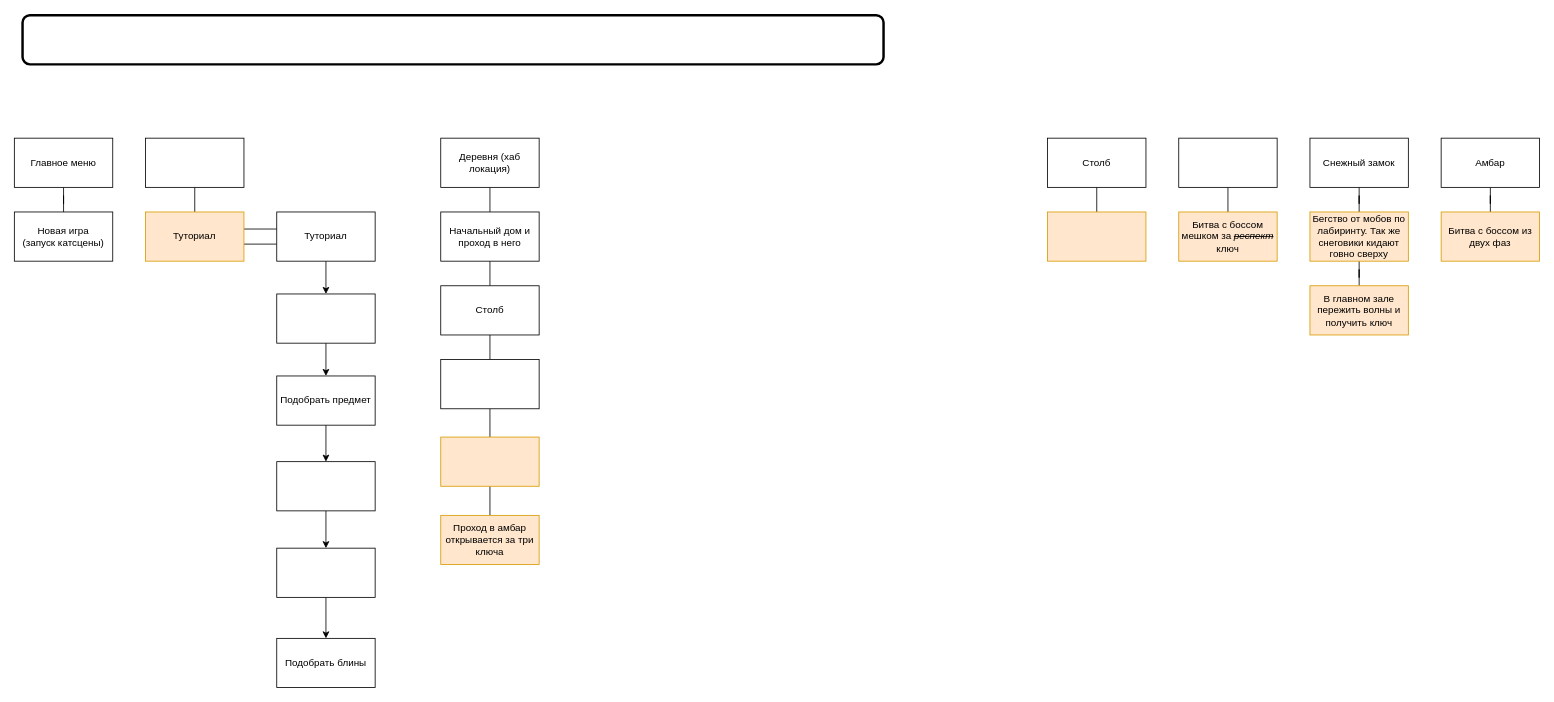
Image size: 1554x702. Some labels were removed from this diagram. The shapes that lost their labels are listed below. From the top down, each one's centre as x and y in pixels, then its label:
At point (452, 39): "BURN OUT ALPHA V 0.1".
At point (194, 162): "Начальный дом".
At point (1227, 162): "Загон".
At point (1096, 236): "Взаимодействие со столбом: с него падает ключ".
At point (325, 318): "Передвежиение".
At point (489, 384): "Проход в загон".
At point (489, 461): "Проход в снежный замок открывается после загона".
At point (325, 486): "Атака".
At point (325, 572): "Убить чучело".
